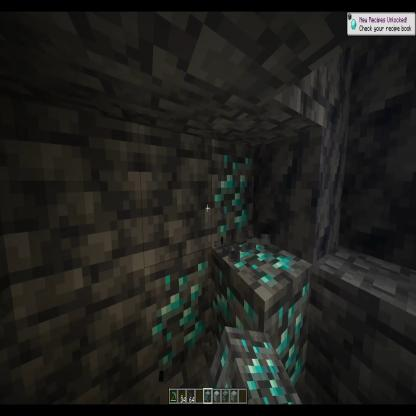diamond ore: (208, 237, 308, 395), (142, 247, 209, 376), (207, 328, 306, 404), (210, 131, 256, 245)
